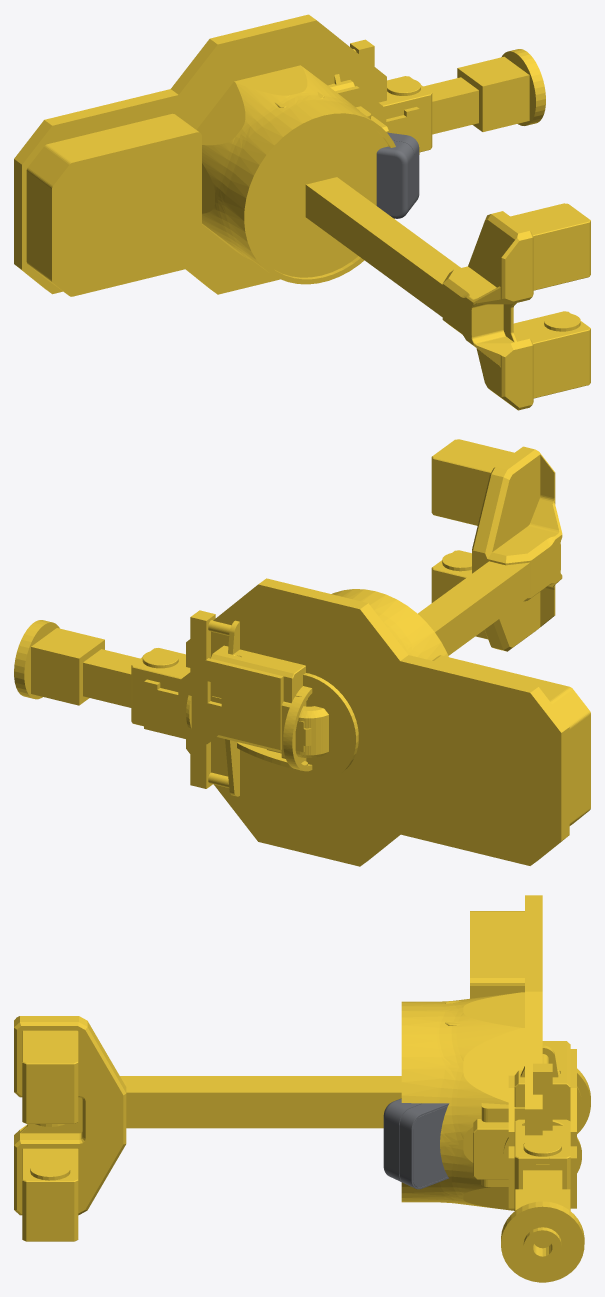
File: arm.glb
3 renders of one model, top to bottom at view 1: azimuth 30°, elevation 25°; view 2: azimuth 150°, elevation 25°; view 3: azimuth 270°, elevation 25°, orthographic. The views are drawn at different scales.
Visible parts, largest first — view 1: b1, b3, b4, b5, b7; view 2: b1, b3, b5, b2, b4, b7, b6; view 3: b3, b1, b4, b5, b7, b6.
Boxes of the visible parts, left/top/right/bottom form: b1: left=14, top=14, right=395, bottom=296; b3: left=305, top=177, right=590, bottom=410; b4: left=423, top=49, right=545, bottom=134; b5: left=327, top=76, right=432, bottom=154; b7: left=334, top=39, right=419, bottom=218; b1: left=186, top=578, right=590, bottom=866; b3: left=297, top=439, right=562, bottom=757; b5: left=131, top=645, right=312, bottom=771; b2: left=240, top=637, right=390, bottom=813; b4: left=14, top=620, right=328, bottom=757; b7: left=190, top=610, right=306, bottom=796; b6: left=186, top=695, right=307, bottom=770; b3: left=14, top=1016, right=401, bottom=1241; b1: left=401, top=895, right=542, bottom=1210; b4: left=501, top=1170, right=584, bottom=1282; b5: left=508, top=1041, right=590, bottom=1210; b7: left=383, top=1045, right=581, bottom=1189; b6: left=473, top=1103, right=581, bottom=1186.
Size of the model in its own units: 0.332 by 0.1531 by 0.2929.
